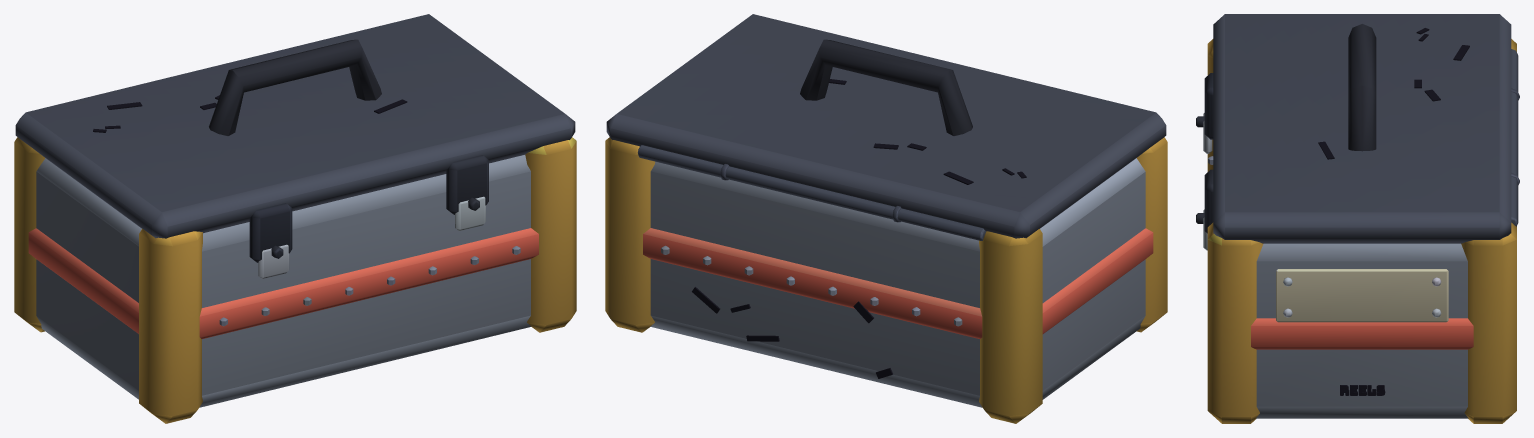
The model's file is SM_Prop_FilmCase.fbx.
3 views of the same model, side by side, from view 1: azimuth 30°, elevation 25°; view 2: azimuth 150°, elevation 25°; view 3: azimuth 270°, elevation 25° (orthographic).
Parts seen in each view (by area): view 1: SM_Prop_FilmCase; view 2: SM_Prop_FilmCase; view 3: SM_Prop_FilmCase.
Part boxes in pixels (<box>): SM_Prop_FilmCase: <box>14,14,576,423</box>; SM_Prop_FilmCase: <box>605,14,1167,423</box>; SM_Prop_FilmCase: <box>1196,14,1519,423</box>.
Bounding box in the file's own units: 87.65 × 52.34 × 56.61.
